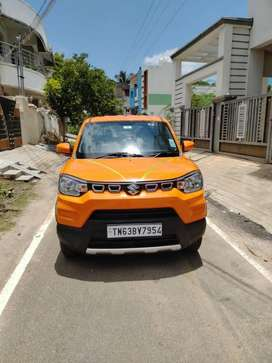TN63BV7954: (107, 222, 162, 238)
